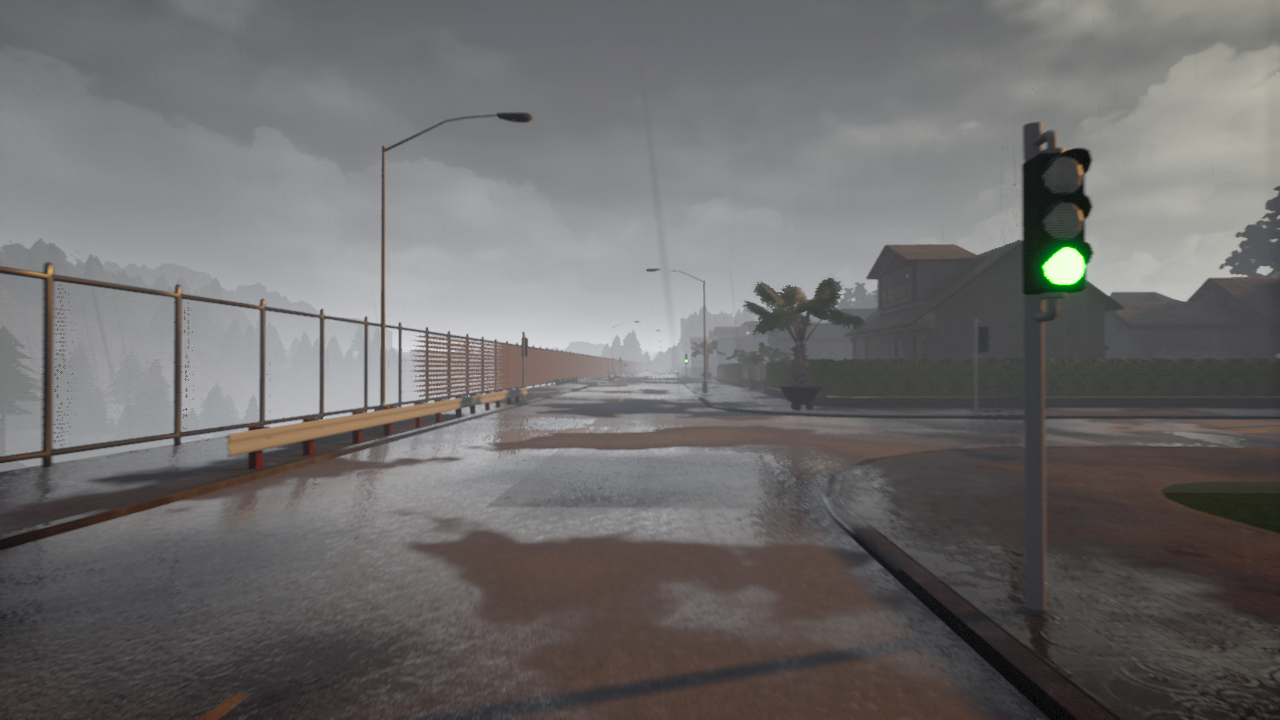green: (1014, 150, 1094, 294)
